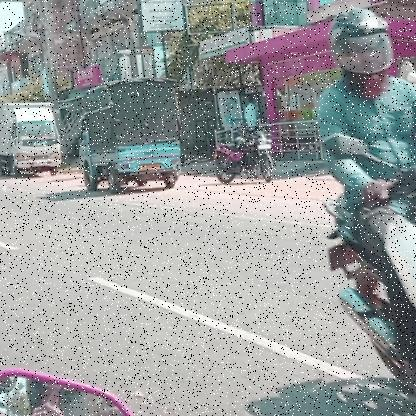motorcycle: (310, 167, 416, 416)
